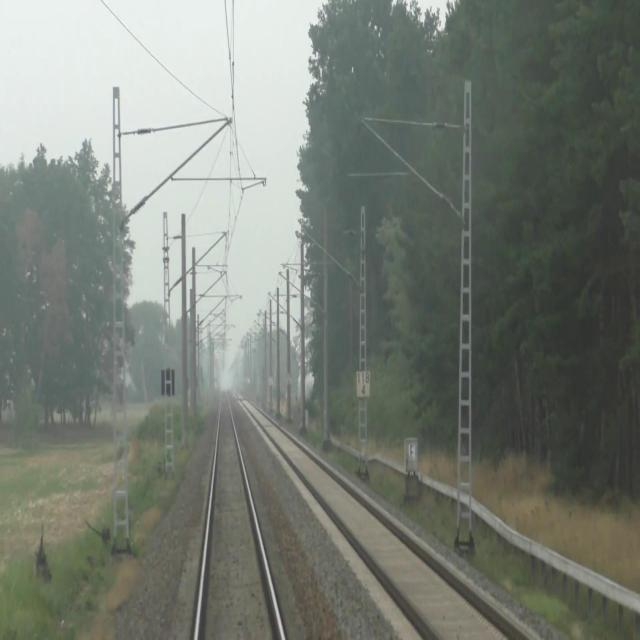rail-track: (254, 409, 525, 639), (199, 395, 280, 639)
